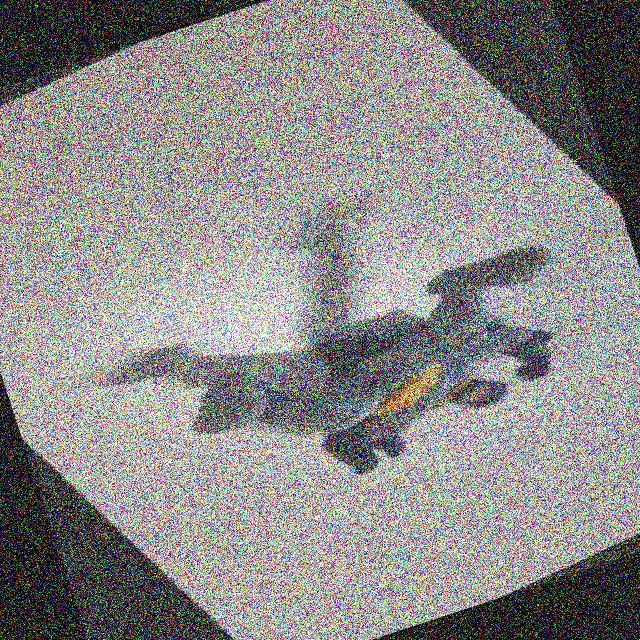Batman: (146, 208, 640, 542)
